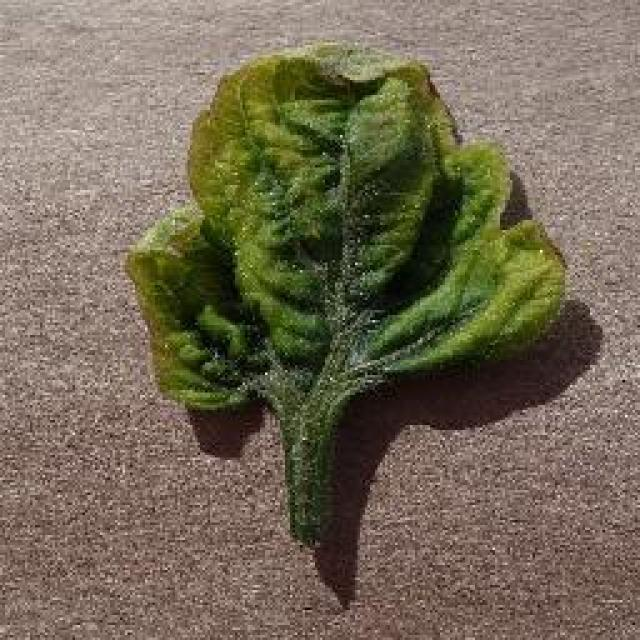Tomato yellow virus leaf: (124, 38, 568, 414)
